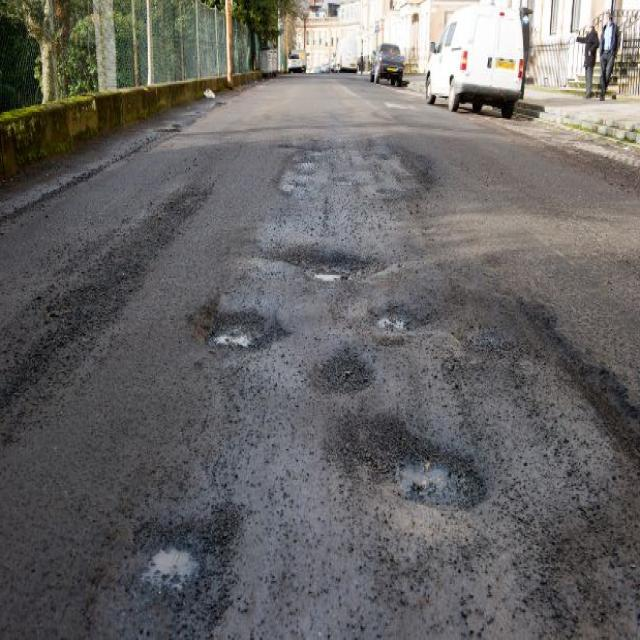Pothole: (122, 489, 243, 640), (346, 410, 488, 511), (187, 299, 288, 357)
